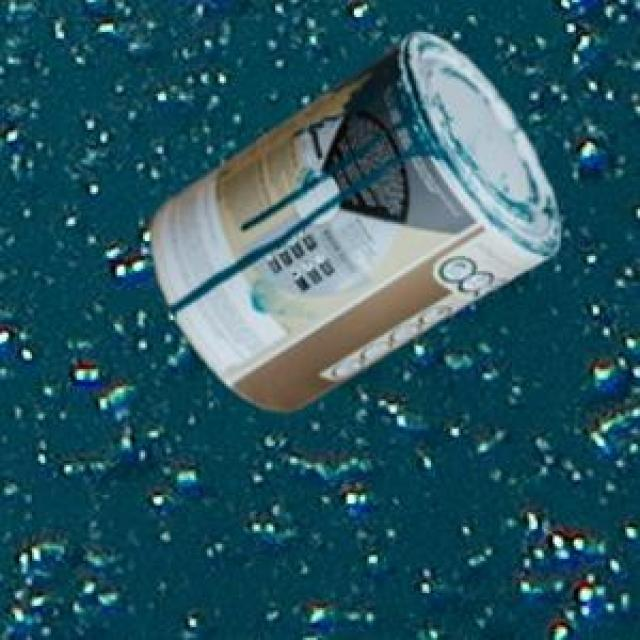Can: (148, 31, 558, 409)
